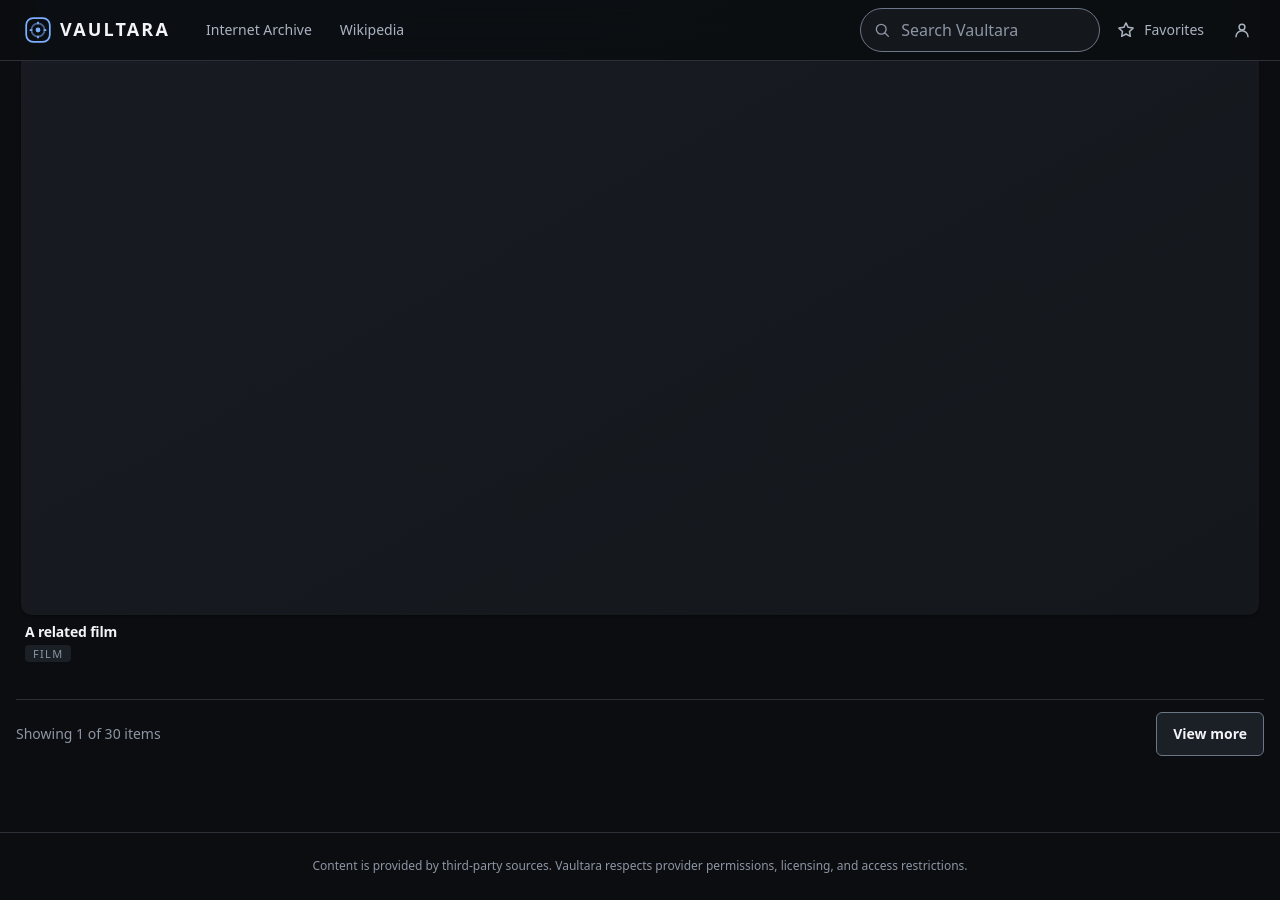
item page › shows related content from the same provider and can add more
The image size is (1280, 900).
(page scrolled)
Expected: the link "A related film" is shown, top-left (25, 623), bottom-right (117, 641)
Click the button with aria-label "View more related items" at point(1210, 734), box top-left (1156, 712), bottom-right (1264, 756)
(page scrolled)
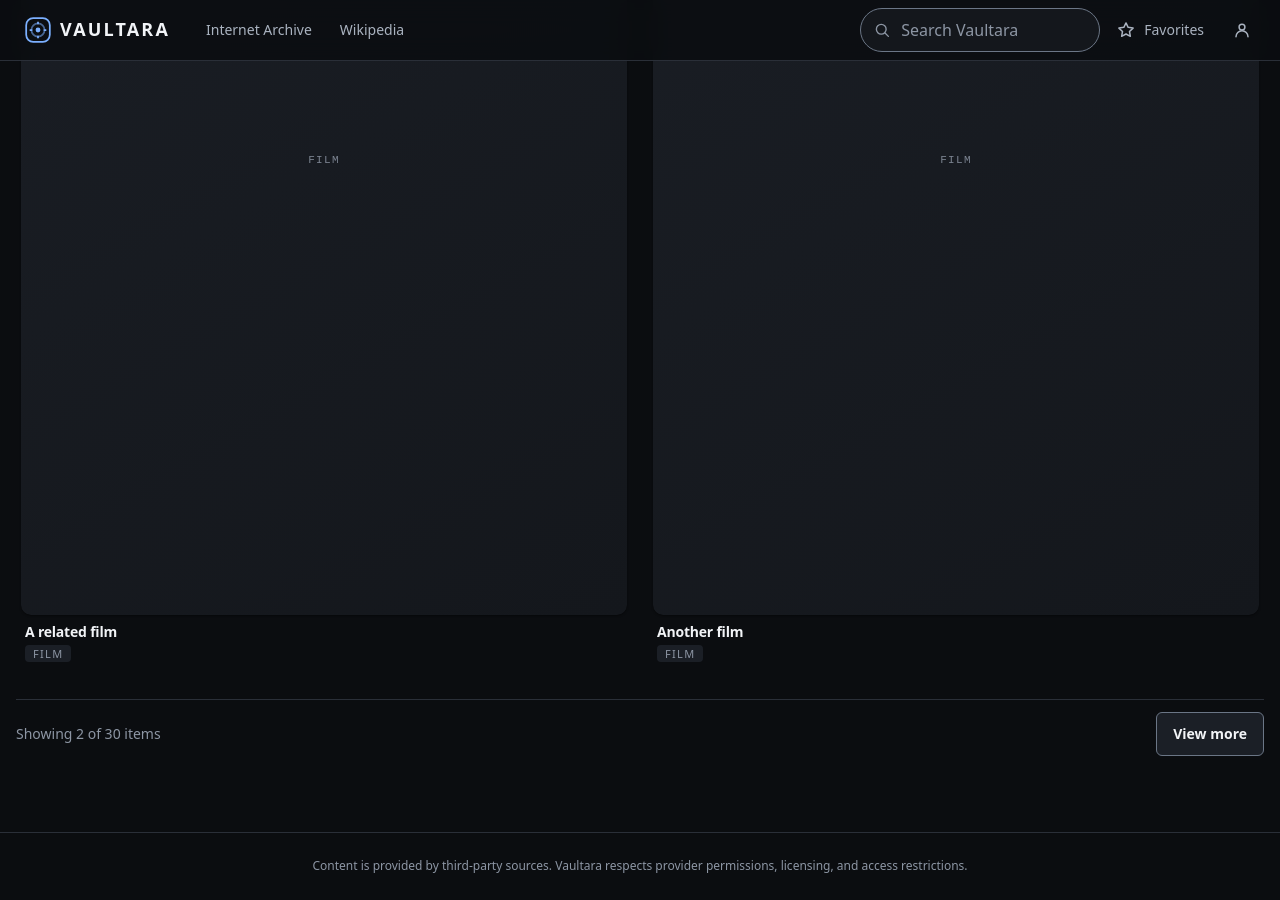
Expected: the link "A related film" is shown, top-left (25, 623), bottom-right (117, 641)
Expected: the link "Another film" is shown, top-left (657, 623), bottom-right (743, 641)
